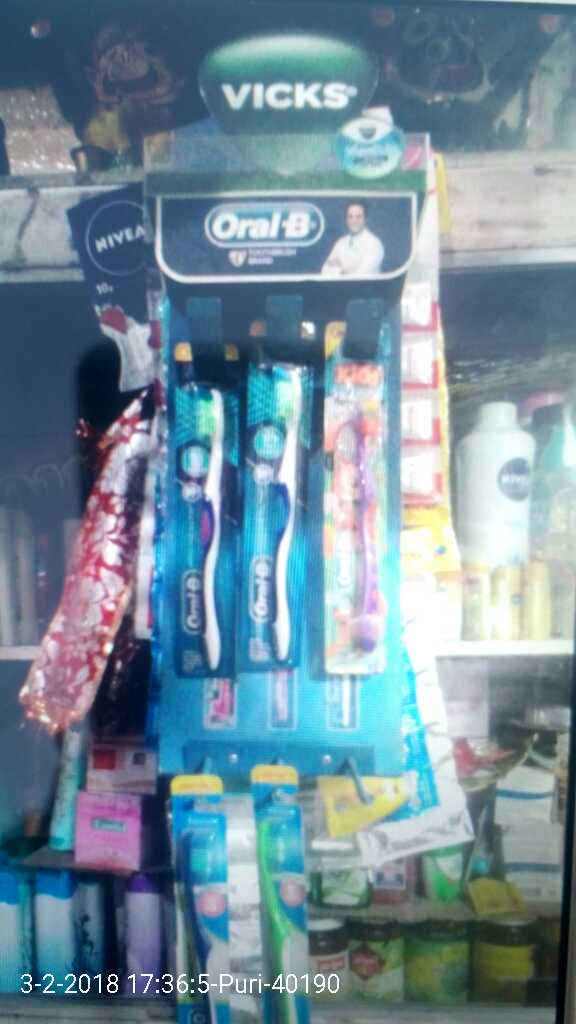oralb: (327, 320, 389, 675), (172, 382, 238, 674), (244, 358, 303, 669)
